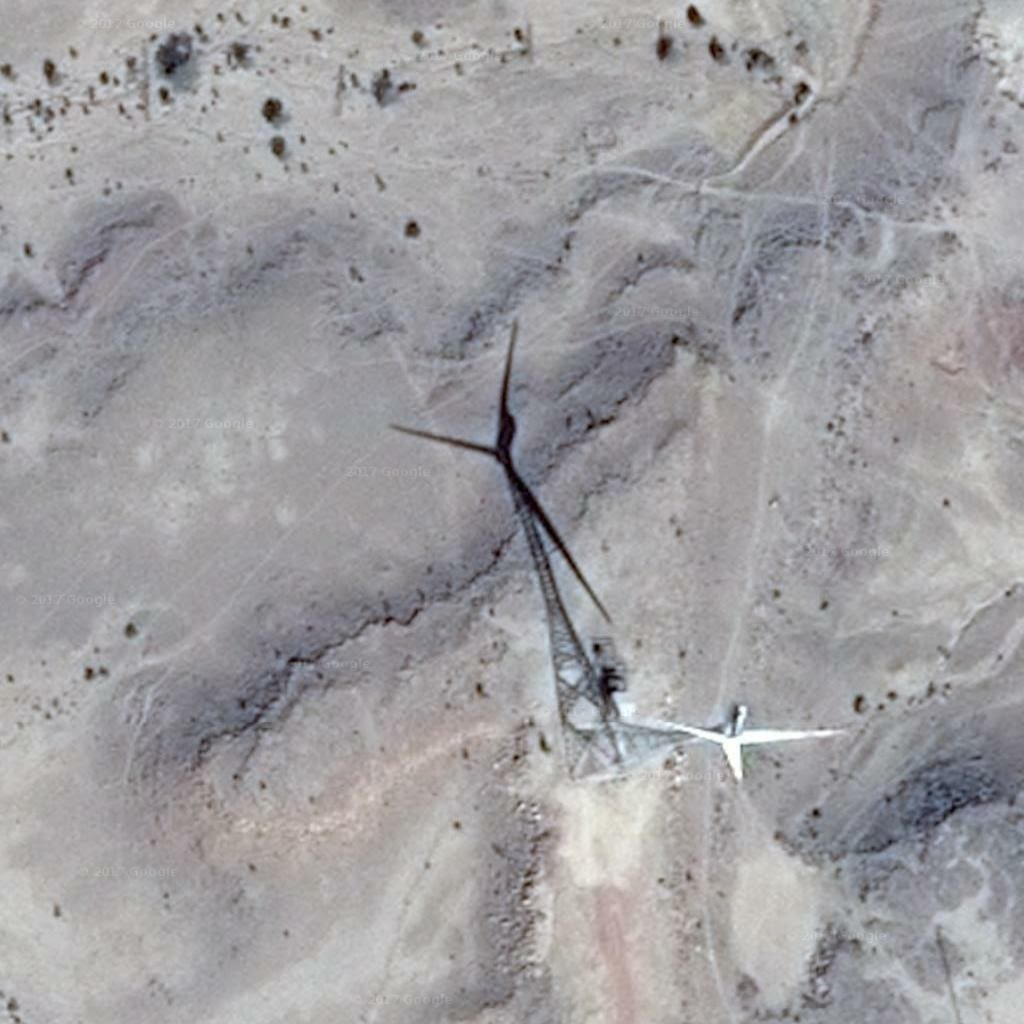Windmill: (385, 310, 586, 631)
